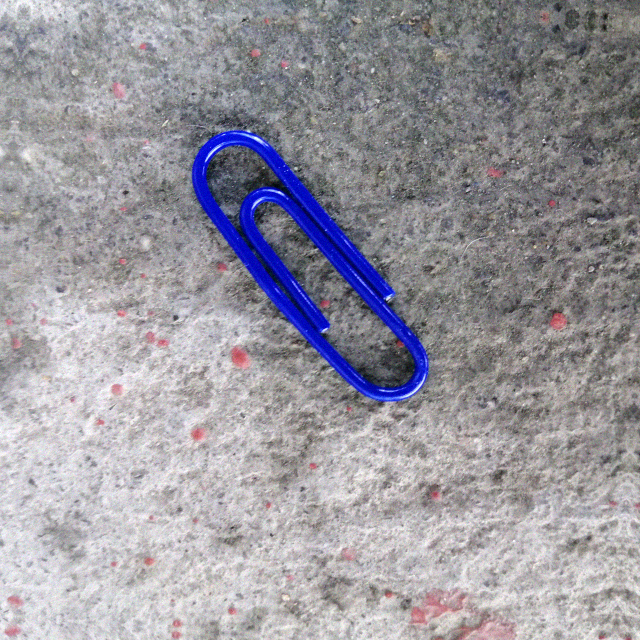pin: (179, 118, 441, 406)
